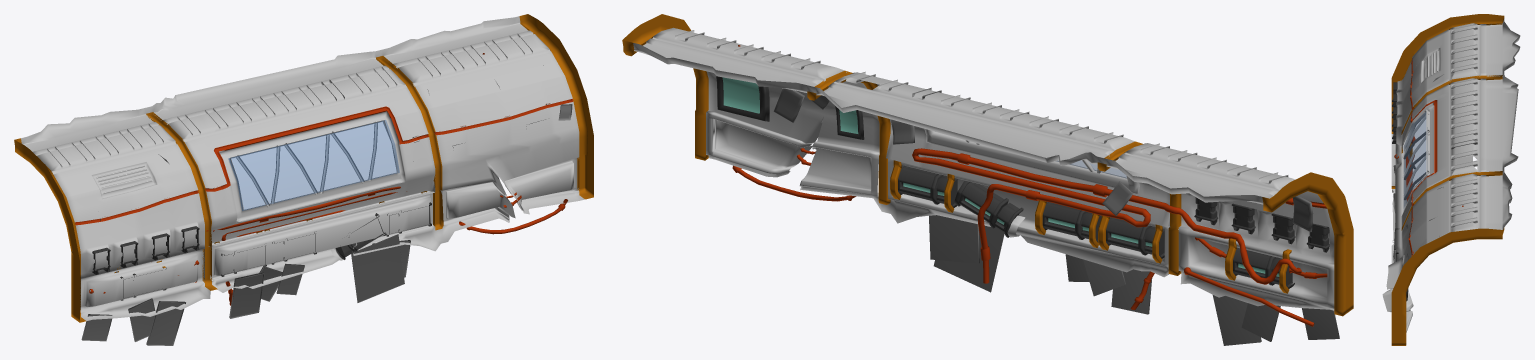
The model's file is Structure_02.fbx.
3 renders of one model, left to right at view 1: azimuth 30°, elevation 25°; view 2: azimuth 150°, elevation 25°; view 3: azimuth 270°, elevation 25°, orthographic. The views are drawn at different scales.
Visible parts, largest first — view 1: Structure_02; view 2: Structure_02; view 3: Structure_02.
Boxes of the visible parts, left/top/right/bottom form: Structure_02: left=14, top=14, right=593, bottom=345; Structure_02: left=622, top=14, right=1353, bottom=345; Structure_02: left=1382, top=14, right=1520, bottom=345.
Size of the model in its own units: 18.89 by 6.67 by 5.13.
